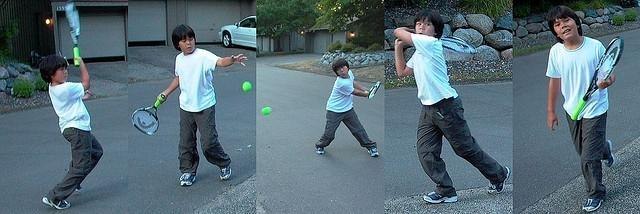car: (218, 15, 257, 49)
